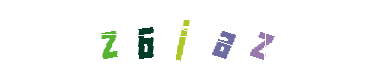6: (105, 0, 185, 80)
A: (147, 0, 227, 80)
J: (137, 0, 217, 80)
Z: (70, 0, 150, 80), (195, 0, 275, 80)
